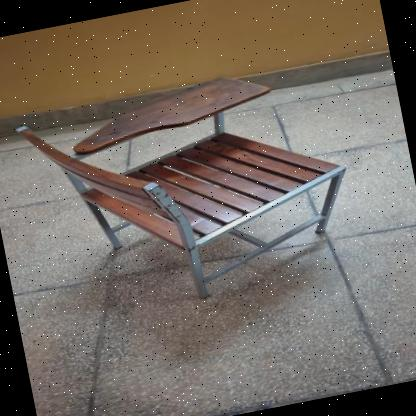chair: (10, 39, 385, 335)
